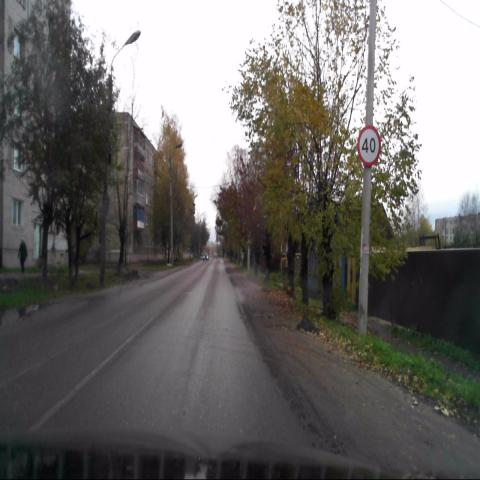3_24: (358, 124, 382, 167)
